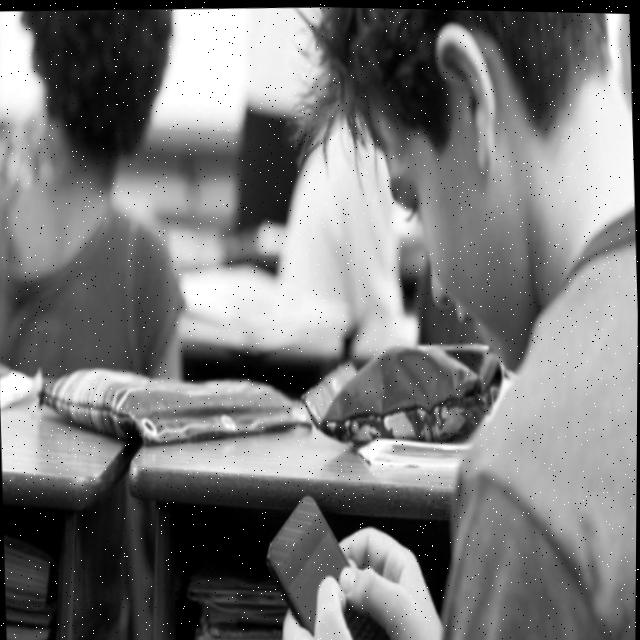phone: (261, 486, 403, 640)
